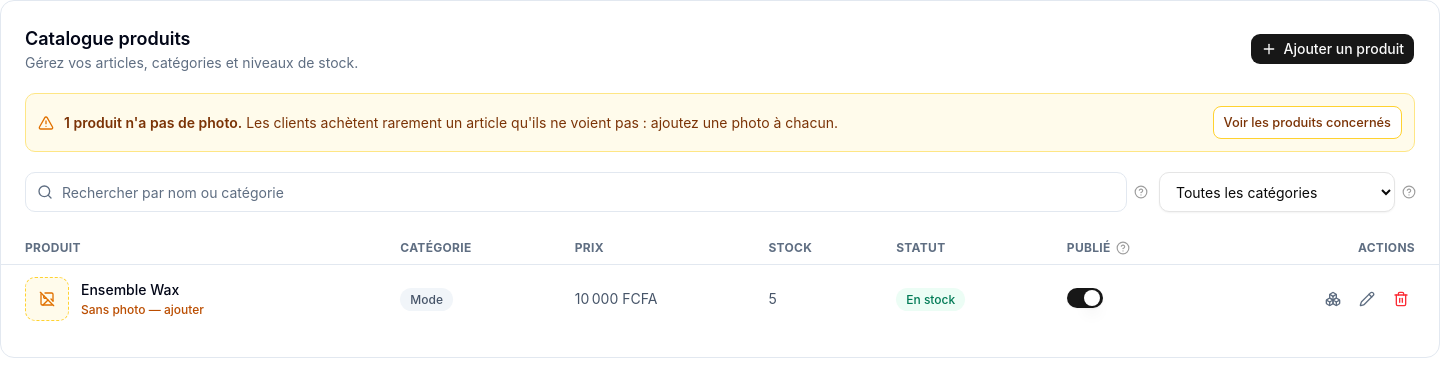
ProductList › moves a product to the trash instead of deleting it for good (BF-99)
Click the button named "Supprimer Ensemble Wax" at point(1401, 299), box left=1387, top=285, right=1415, bottom=313
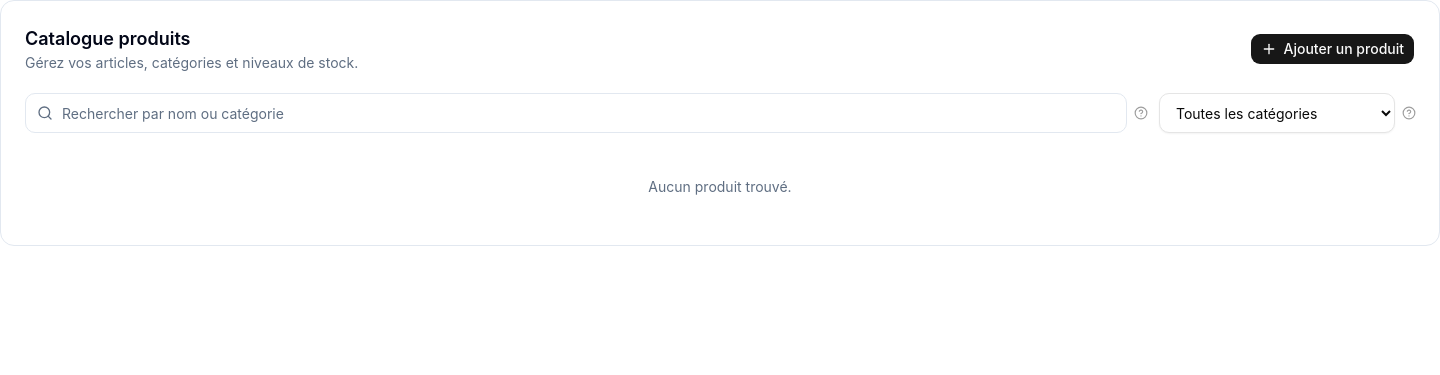
expect the text "Ensemble Wax" is gone: met
